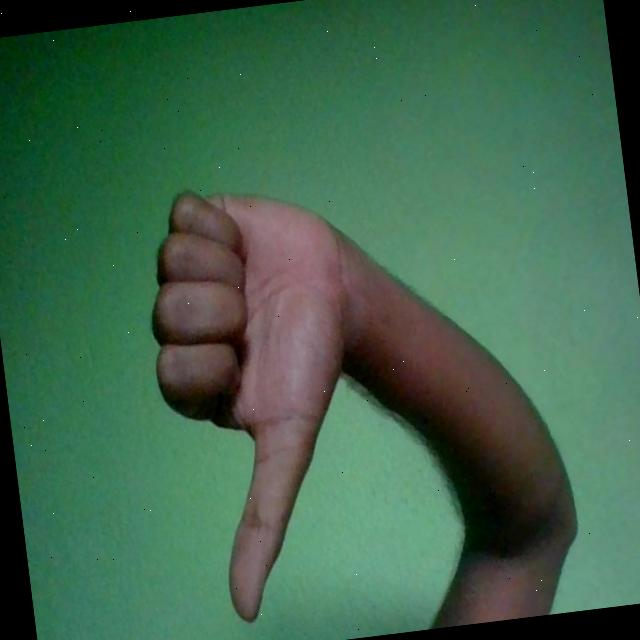Dislike: (136, 168, 394, 630)
